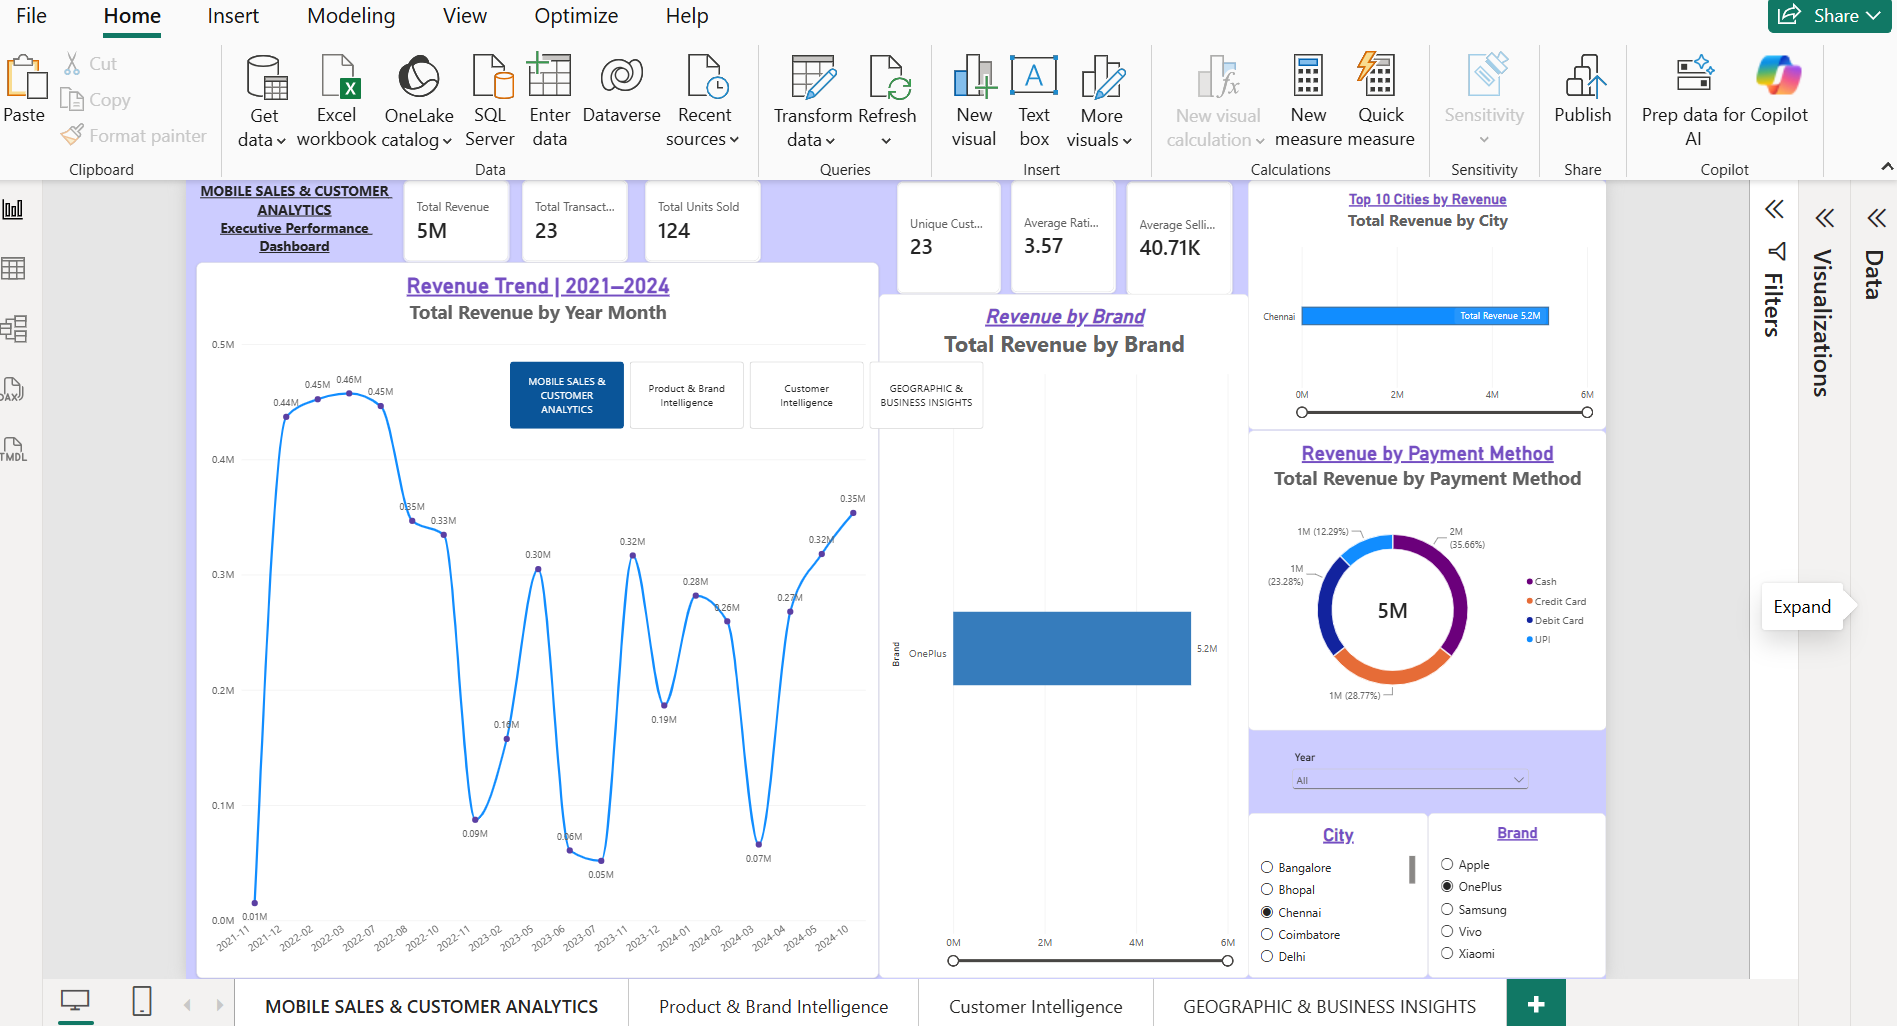

The page's visual inventory and layout, read from the dashboard file:
{"tool":"powerbi","page":{"name":"MOBILE SALES & CUSTOMER ANALYTICS","canvas":[1920,1080],"ordinal":0},"visuals":[{"type":"cardVisual","fields":{"Data":["Sheet1.Total Revenue"]},"box":[293,0,143.1,111.3],"z":0},{"type":"cardVisual","fields":{"Data":["Sheet1.Total Units Sold"]},"box":[620.1,0,156.7,111.3],"z":1000},{"type":"cardVisual","fields":{"Data":["Sheet1.Total Transactions"]},"box":[454.3,0,143.1,111.3],"z":2000},{"type":"cardVisual","fields":{"Data":["Sheet1.Average Selling Price"]},"box":[1271.9,2.3,143.1,154.4],"z":3000},{"type":"cardVisual","fields":{"Data":["Sheet1.Average Rating"]},"box":[1115.2,0,141.7,153.1],"z":4000},{"type":"cardVisual","fields":{"Data":["Sheet1.Unique Customers"]},"box":[960.8,2.3,140.8,152.2],"z":5000},{"type":"lineChart","title":"Revenue Trend | 2021–2024","fields":{"Category":["DateTable.Year Month"],"Y":["Sheet1.Total Revenue"]},"box":[13.6,111.3,922.2,967.6],"z":6000},{"type":"clusteredBarChart","title":"Revenue by Brand","fields":{"Category":["Sheet1.Brand"],"Y":["Sheet1.Total Revenue"]},"box":[935.8,154.4,499.7,924.4],"z":7000},{"type":"clusteredBarChart","title":"Top 10 Cities by Revenue","fields":{"Category":["Sheet1.City"],"Y":["Sheet1.Total Revenue"]},"box":[1435.5,0,484.7,337.3],"z":8000},{"type":"donutChart","title":"Revenue by Payment Method","fields":{"Category":["Sheet1.Payment Method"],"Y":["Sheet1.Total Revenue"]},"box":[1435.5,338.4,484.7,405.4],"z":9000},{"type":"slicer","fields":{"Values":["Sheet1.Year"]},"box":[1490,772.2,329.3,106.8],"z":10000},{"type":"listSlicer","fields":{"Values":["Sheet1.Brand"]},"box":[1678.5,856.3,240.8,222.6],"z":11000},{"type":"listSlicer","fields":{"Values":["Sheet1.City"]},"box":[1435.5,856.3,243,222.6],"z":12000},{"type":"textbox","box":[0,2.3,293,308.9],"z":13000},{"type":"pageNavigator","box":[438,245.3,642.7,91.2],"z":13001}]}

Visuals, with their boxes on the page's 1920x1080 design canvas (x1, y1, x2, y2). These are canvas units, not pixel positions in the 1897x1026 screenshot, which may show the page scaled, cropped or inside an application window:
cardVisual - Sheet1.Total Revenue: {"x1": 293, "y1": 0, "x2": 436, "y2": 111}
cardVisual - Sheet1.Total Units Sold: {"x1": 620, "y1": 0, "x2": 777, "y2": 111}
cardVisual - Sheet1.Total Transactions: {"x1": 454, "y1": 0, "x2": 597, "y2": 111}
cardVisual - Sheet1.Average Selling Price: {"x1": 1272, "y1": 2, "x2": 1415, "y2": 157}
cardVisual - Sheet1.Average Rating: {"x1": 1115, "y1": 0, "x2": 1257, "y2": 153}
cardVisual - Sheet1.Unique Customers: {"x1": 961, "y1": 2, "x2": 1102, "y2": 154}
"Revenue Trend | 2021–2024" lineChart: {"x1": 14, "y1": 111, "x2": 936, "y2": 1079}
"Revenue by Brand" clusteredBarChart: {"x1": 936, "y1": 154, "x2": 1436, "y2": 1079}
"Top 10 Cities by Revenue" clusteredBarChart: {"x1": 1436, "y1": 0, "x2": 1920, "y2": 337}
"Revenue by Payment Method" donutChart: {"x1": 1436, "y1": 338, "x2": 1920, "y2": 744}
slicer - Sheet1.Year: {"x1": 1490, "y1": 772, "x2": 1819, "y2": 879}
listSlicer - Sheet1.Brand: {"x1": 1678, "y1": 856, "x2": 1919, "y2": 1079}
listSlicer - Sheet1.City: {"x1": 1436, "y1": 856, "x2": 1678, "y2": 1079}
textbox: {"x1": 0, "y1": 2, "x2": 293, "y2": 311}
pageNavigator: {"x1": 438, "y1": 245, "x2": 1081, "y2": 336}
